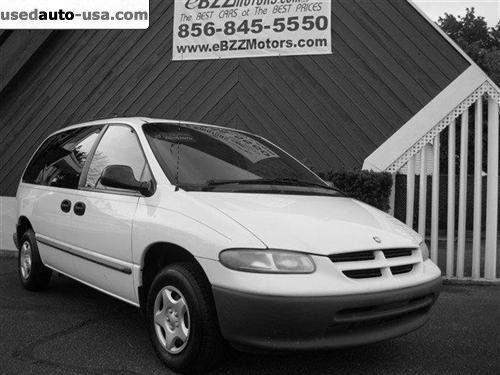car: (15, 116, 445, 365)
